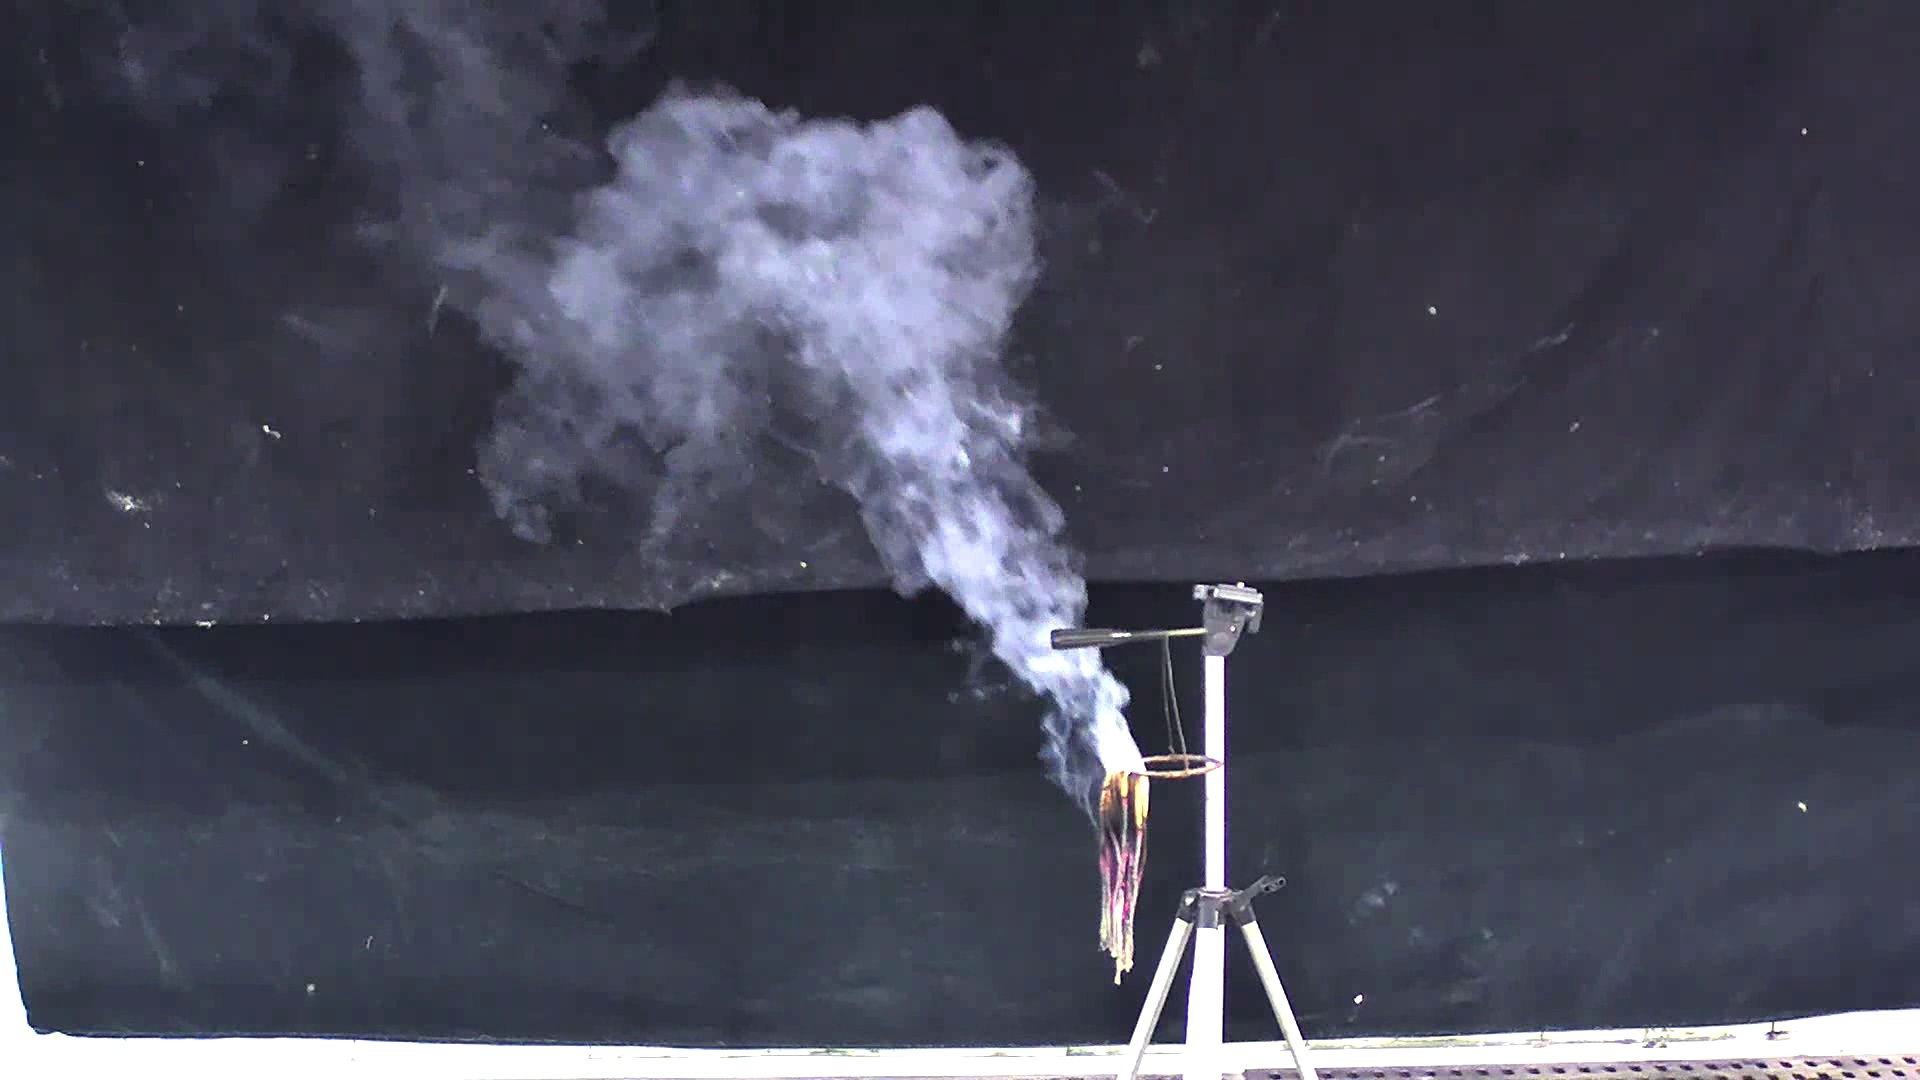smoke: (386, 45, 1158, 789)
